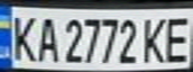2: (60, 13, 84, 64), (118, 15, 142, 65)
7: (78, 13, 103, 64), (100, 15, 121, 64)
A: (33, 12, 60, 63)
E: (160, 11, 193, 63)
K: (3, 11, 39, 63), (139, 14, 172, 65)
